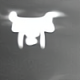plane: (1, 8, 67, 49)
